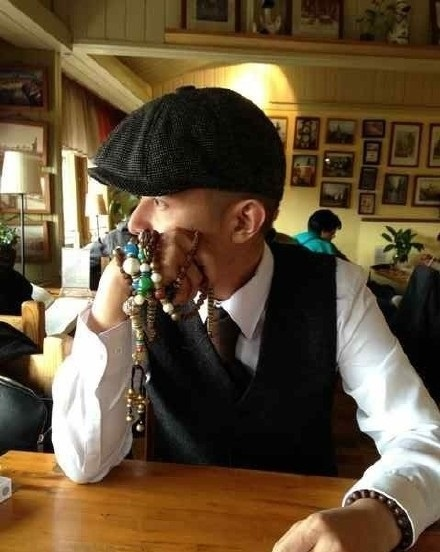Mask: (117, 163, 249, 295)
